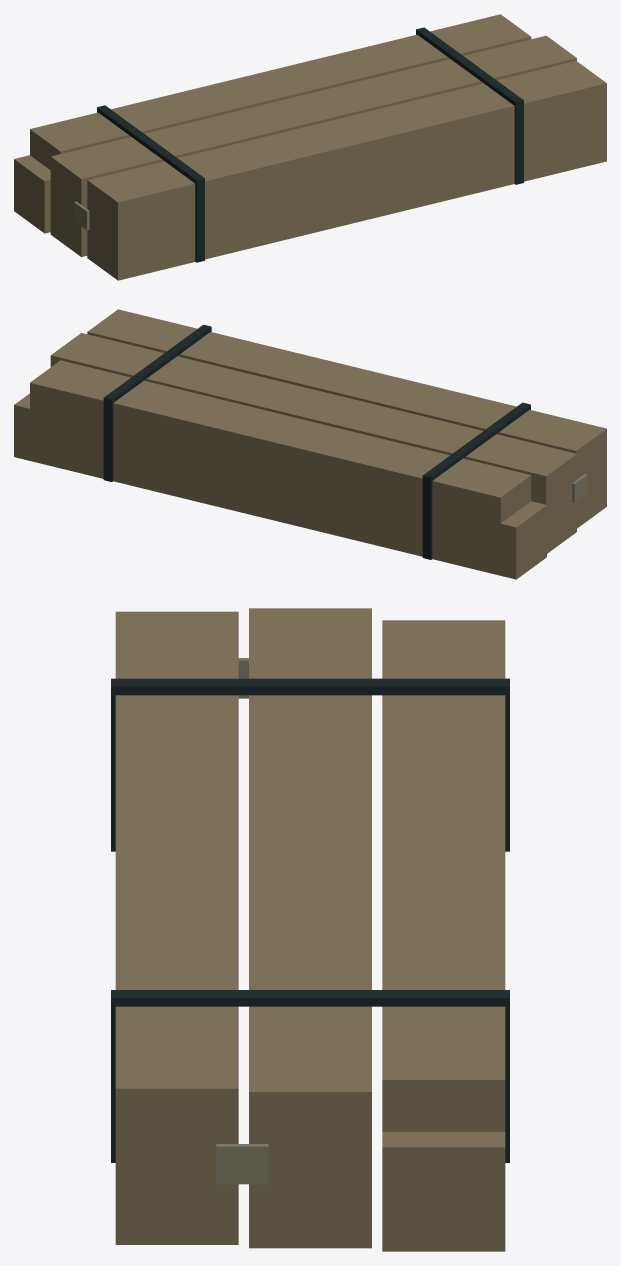
The model's file is lv119-timber-bundle.glb.
3 renders of one model, top to bottom at view 1: azimuth 30°, elevation 25°; view 2: azimuth 150°, elevation 25°; view 3: azimuth 270°, elevation 25°, orthographic. The views are drawn at different scales.
Visible parts, largest first — view 1: timber-bundle; view 2: timber-bundle; view 3: timber-bundle.
Part boxes in pixels (x1,y1,x2,y2): timber-bundle: [14, 14, 606, 280]; timber-bundle: [14, 309, 606, 579]; timber-bundle: [111, 608, 509, 1251].
Size of the model in its own units: 2.22 by 0.348 by 0.764.
